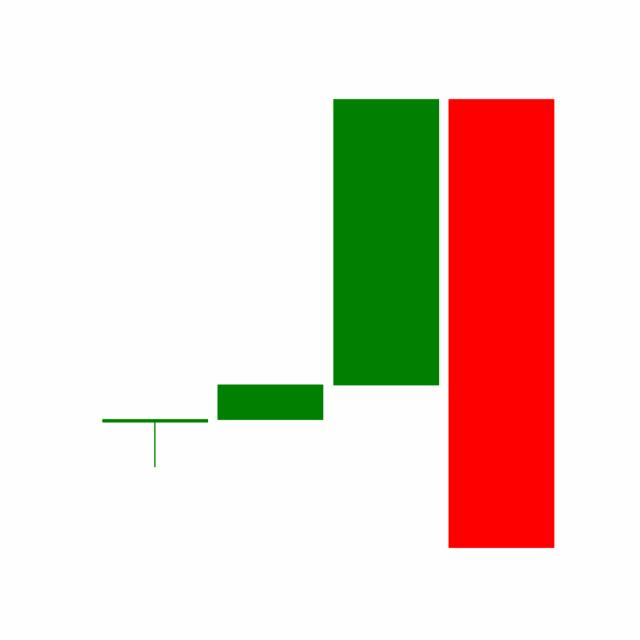Marubozu: (328, 95, 444, 388)
